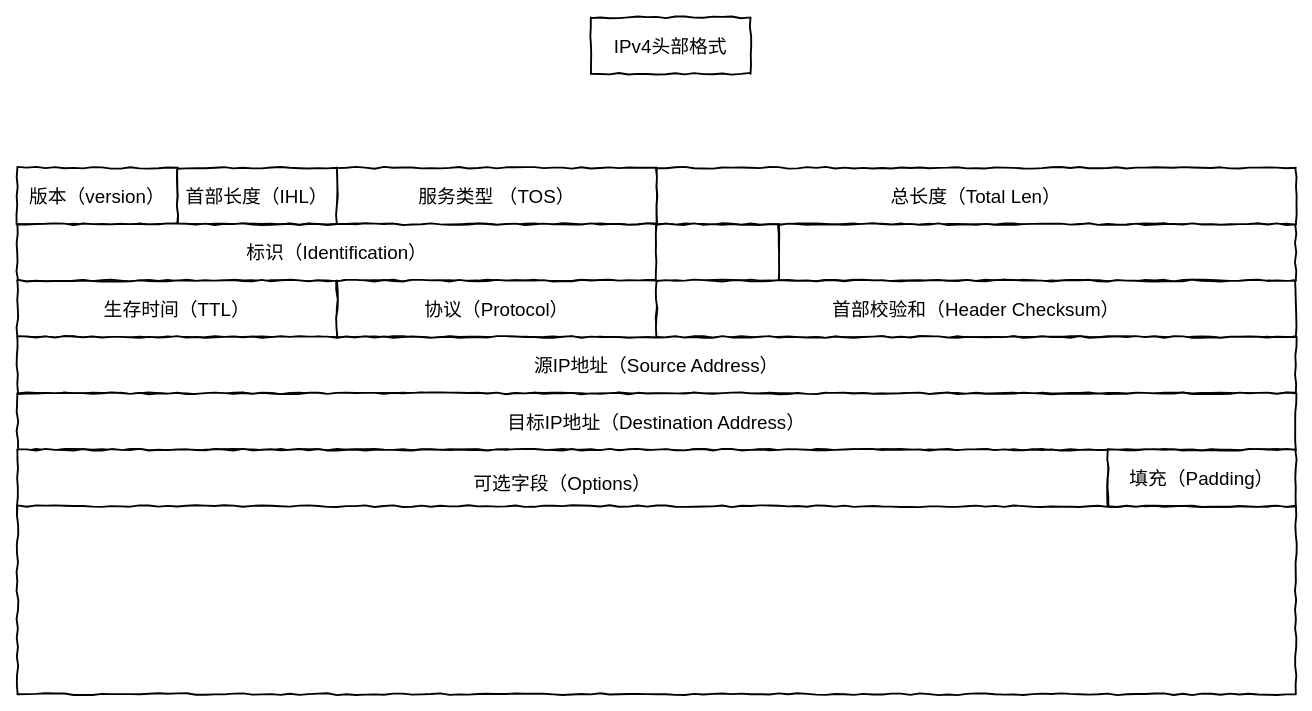
Some shapes in this 1312 by 711 pixel diagram are drawn without their labels. Here are the shapes that lost their labels. From the top down, the box of each, then its label:
(655, 223, 779, 281): 标志（Flags）
(777, 223, 1296, 281): 片偏移（Fragment Offset）
(16, 505, 1296, 695): 数据（Data）
